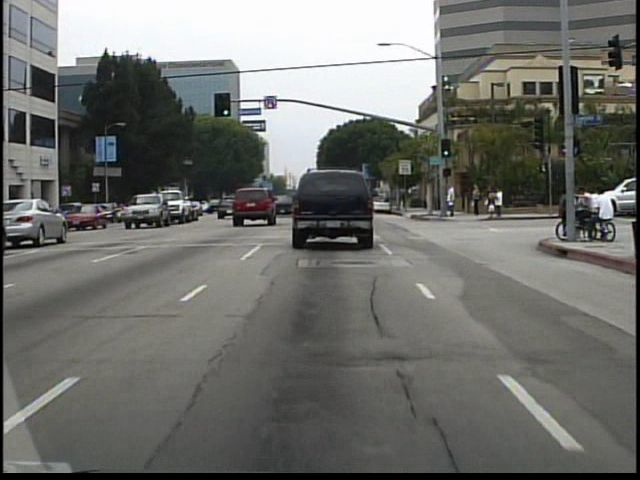person: (470, 181, 485, 219), (445, 181, 459, 218), (400, 186, 412, 213)
